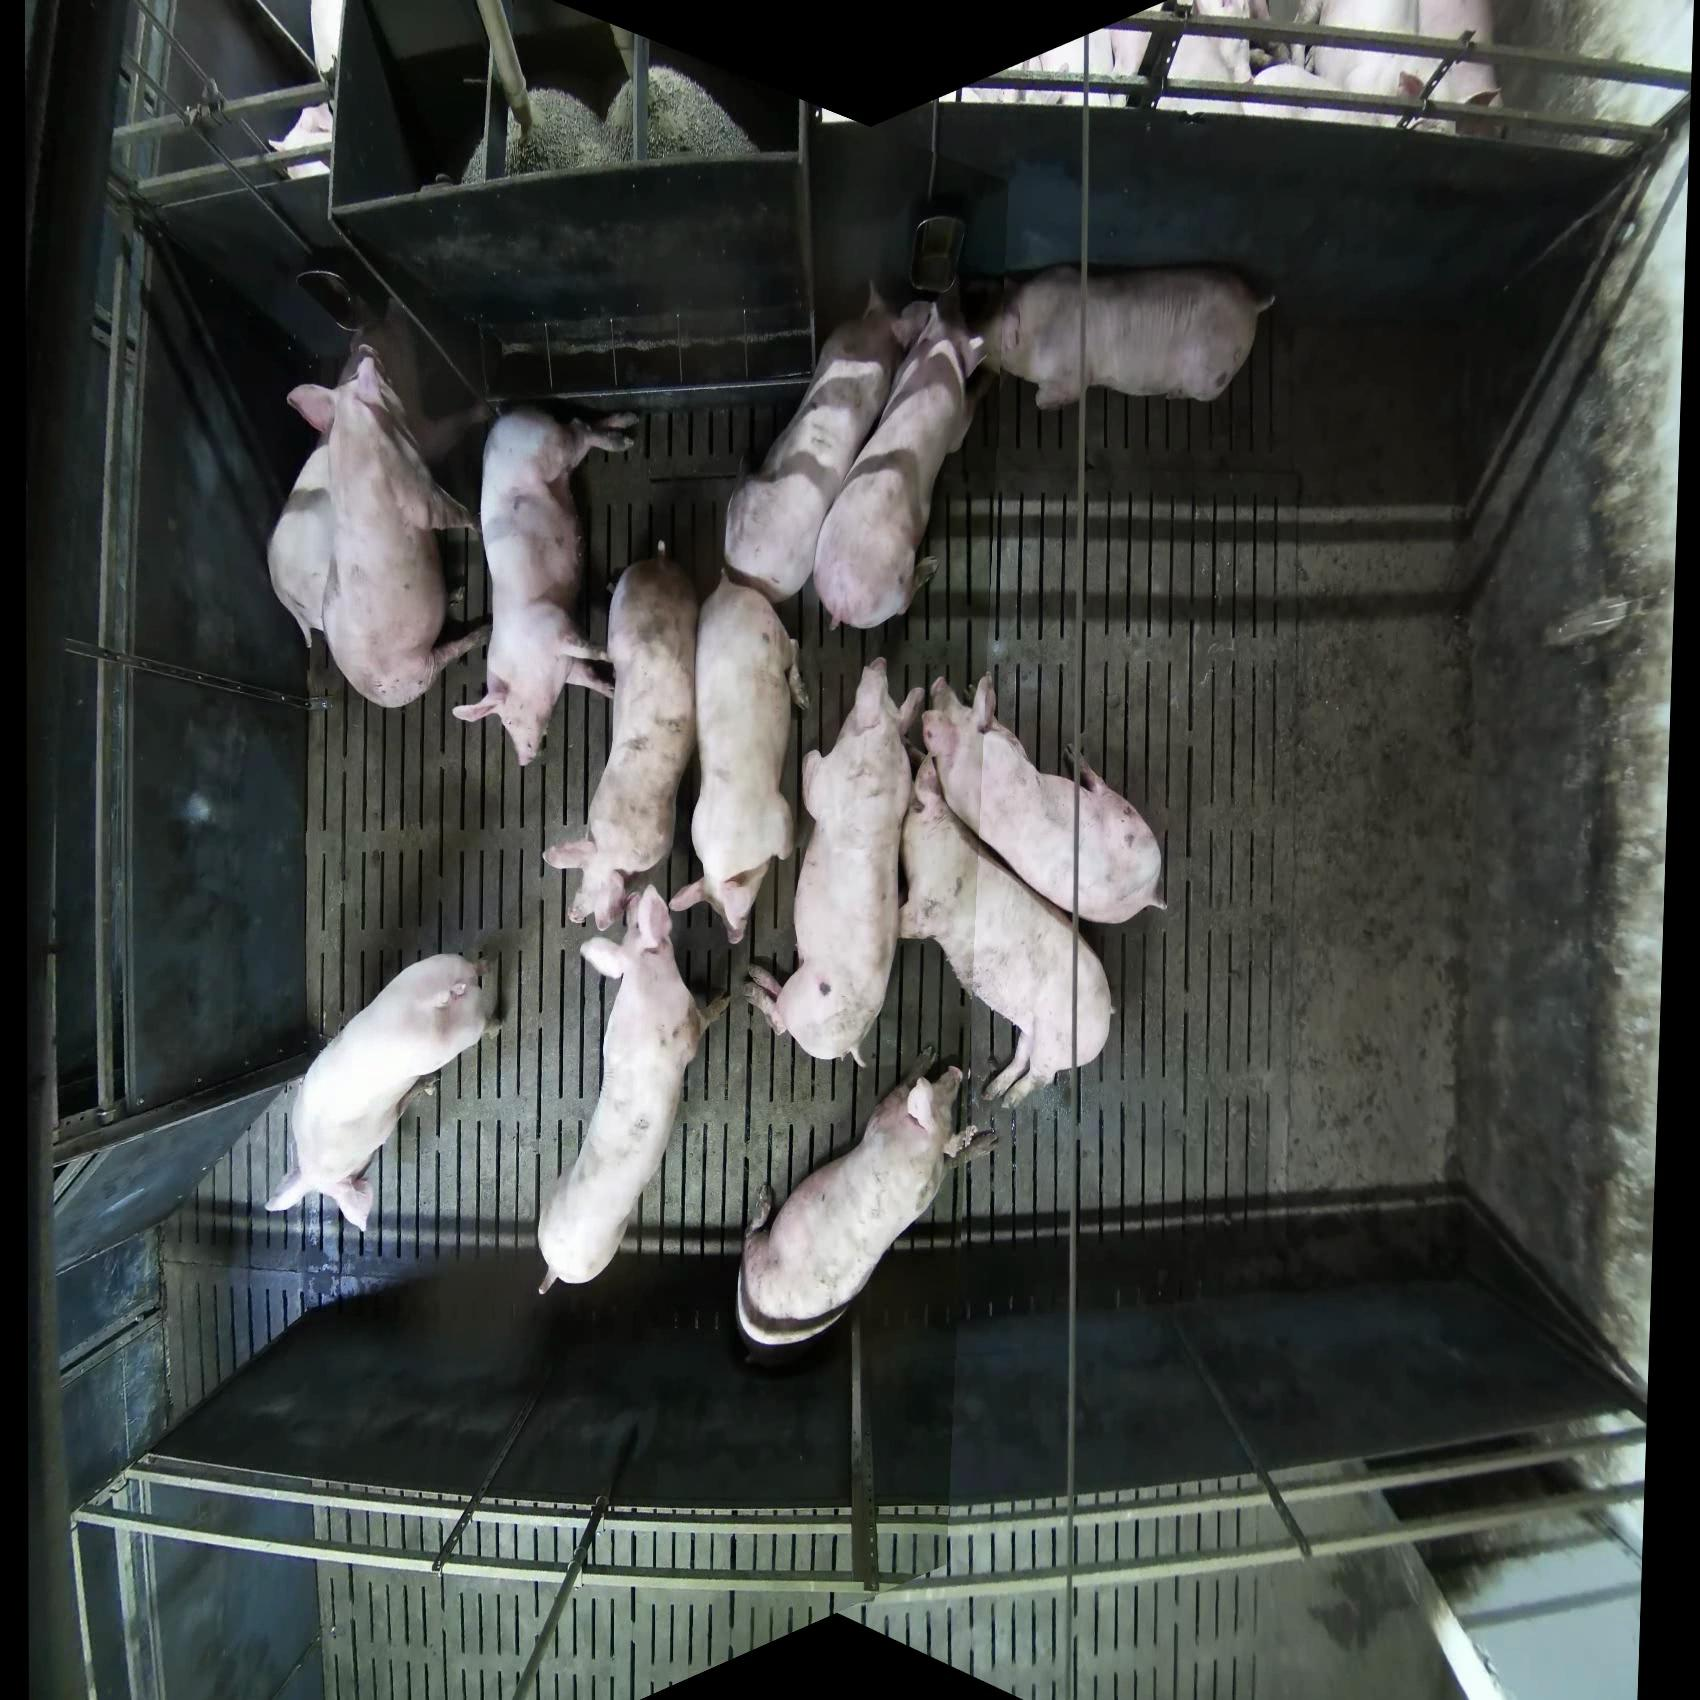pig: (534, 884, 735, 1297), (268, 342, 486, 711), (898, 749, 1115, 1112), (735, 1059, 999, 1350), (743, 657, 926, 1070), (451, 400, 641, 771), (263, 950, 501, 1233), (922, 669, 1169, 926), (542, 542, 701, 933), (811, 286, 989, 630), (722, 279, 904, 602), (668, 567, 810, 947), (973, 260, 1278, 413), (294, 268, 492, 465), (1244, 2, 1505, 139), (266, 431, 333, 652)
